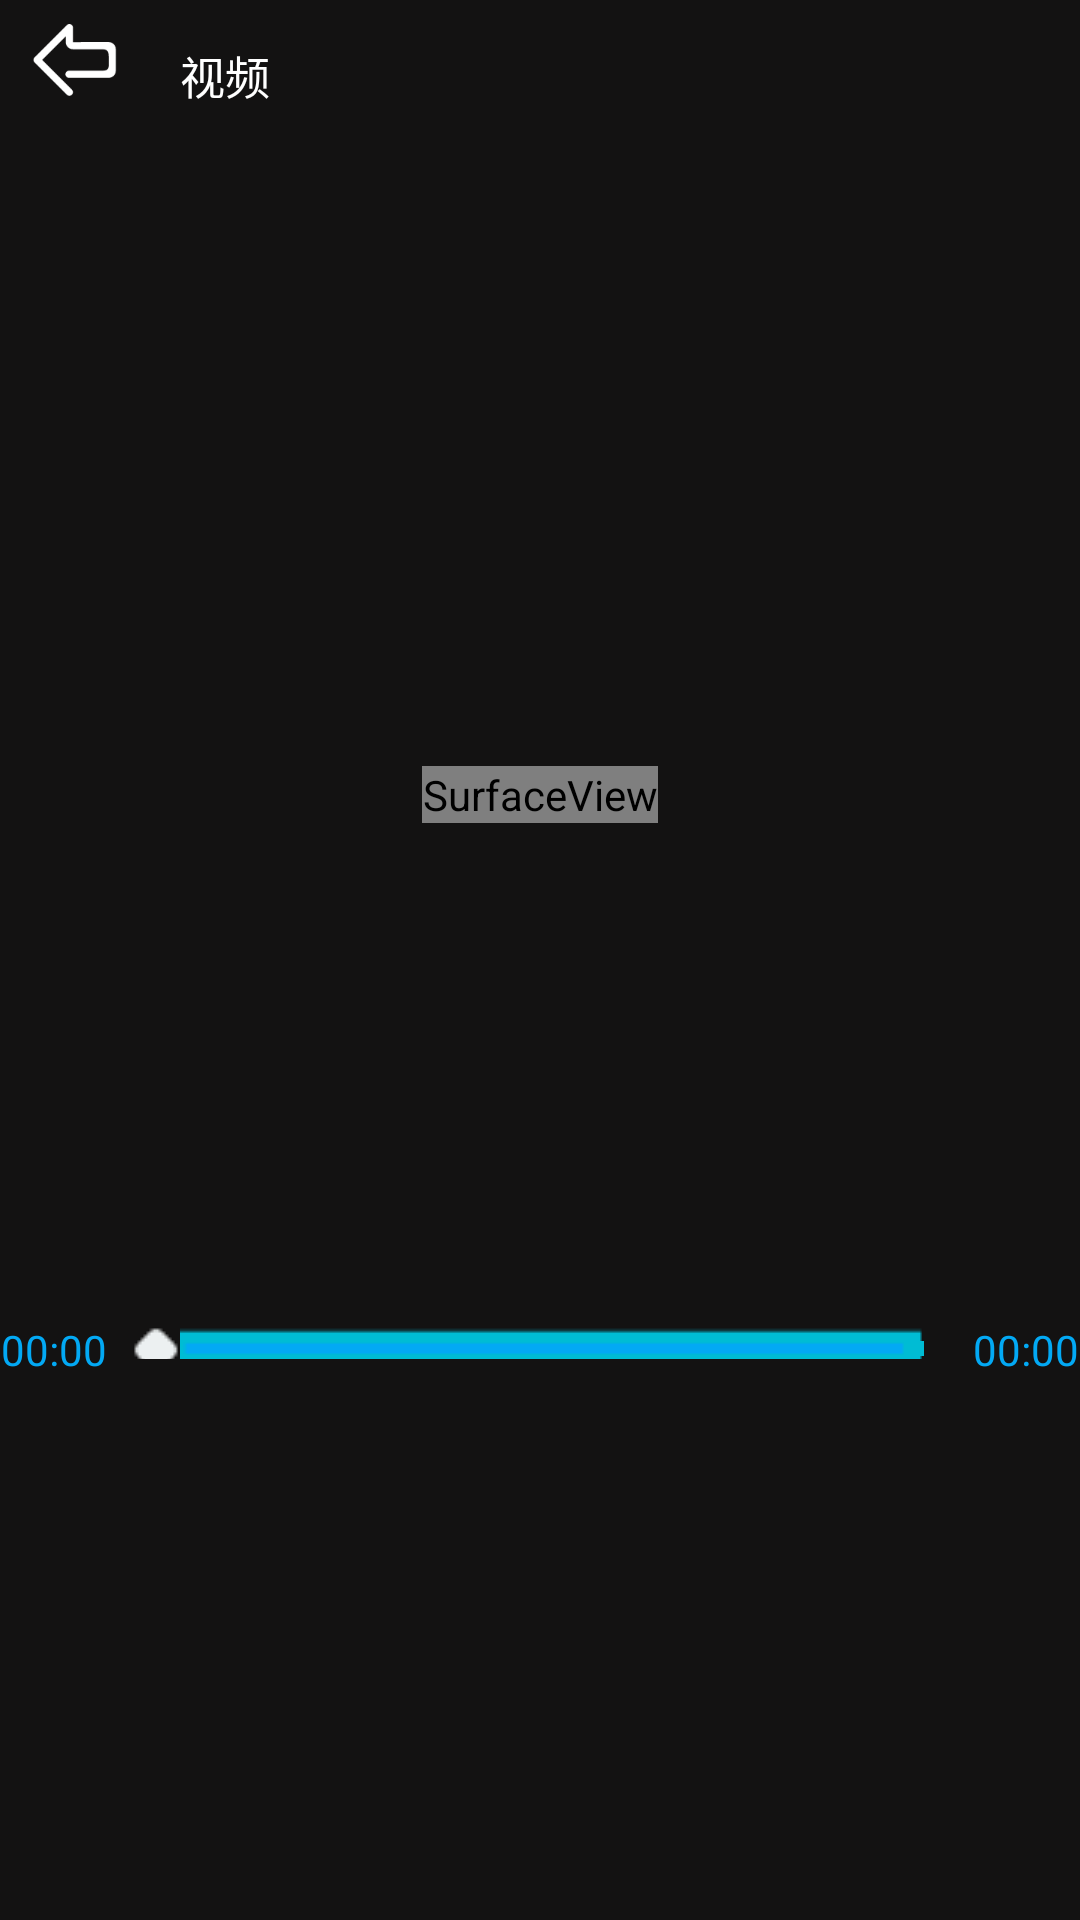

Screen size 1080x1920. Icon name, then its box in pixels as box=[x1, y1, x2, y2]:
back: box=[33, 24, 116, 96]
